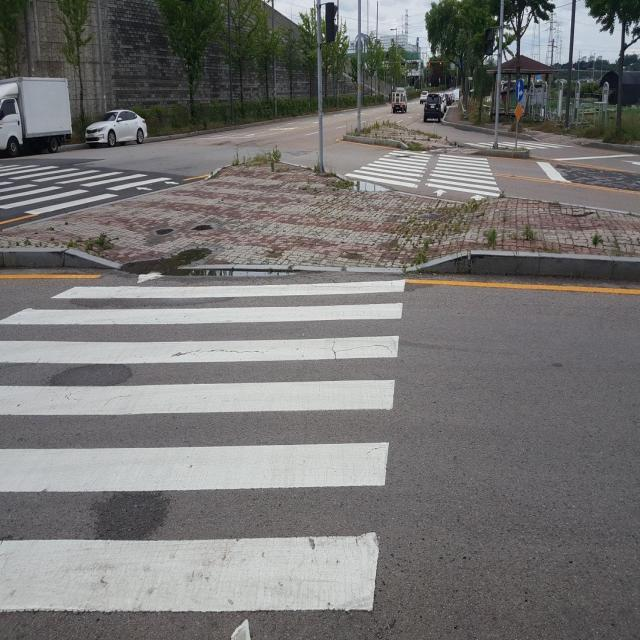횡단보도: (0, 269, 407, 639), (0, 162, 176, 217), (346, 148, 510, 202)
